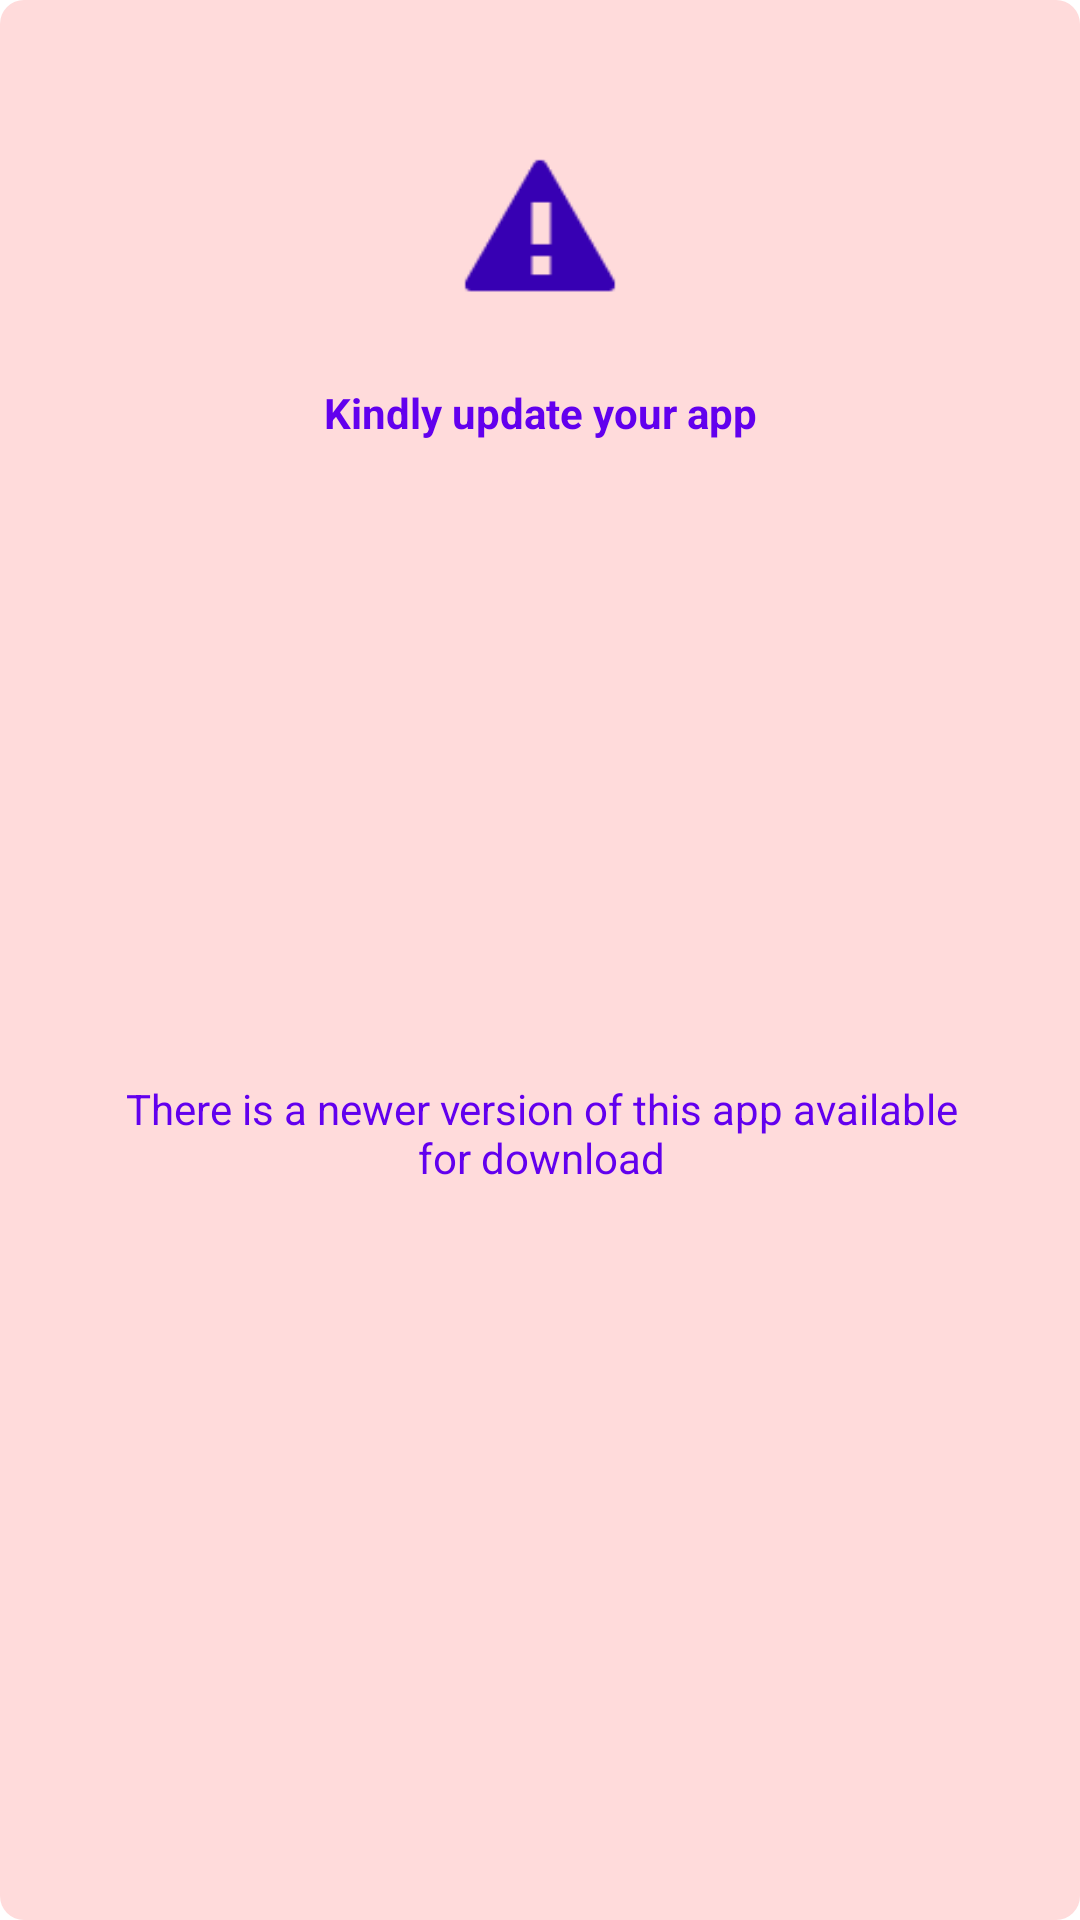

Point at icon controls on the screen. Image size 1080 × 1920, points as point (x, y).
error: point (540, 225)
